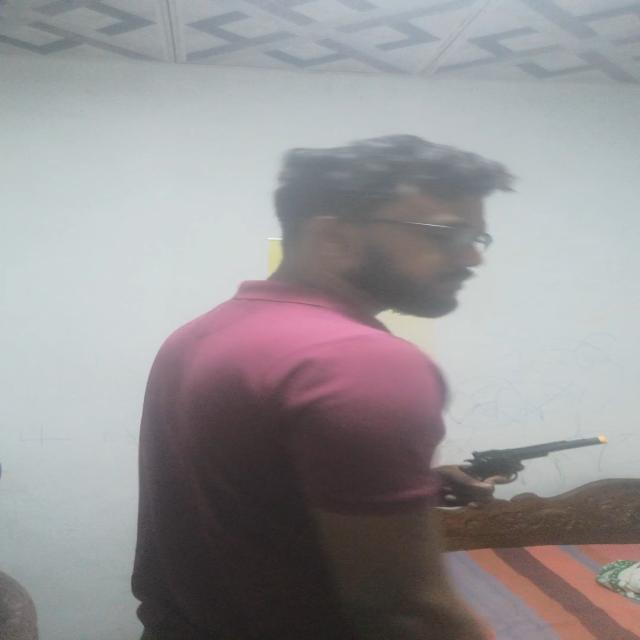Gun_Holder: (410, 430, 624, 508)
Person: (124, 134, 516, 640)
